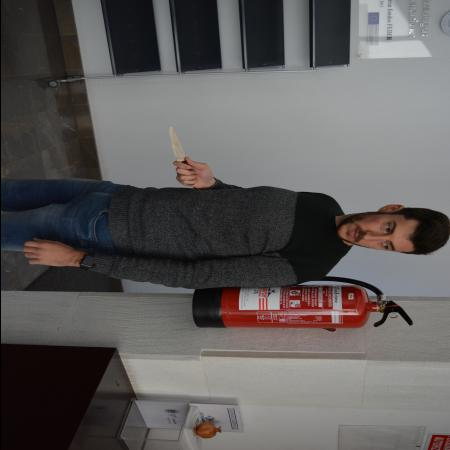long weapon: (164, 124, 194, 172)
